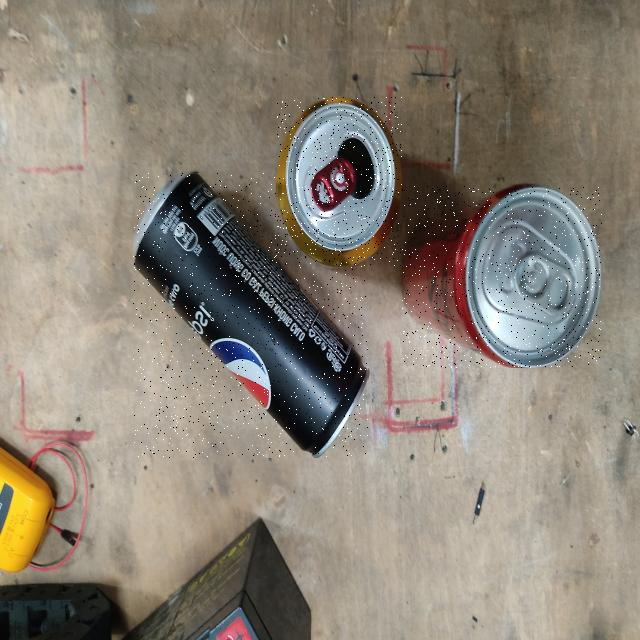metal: (134, 173, 368, 457), (403, 186, 602, 368), (277, 97, 402, 266)
